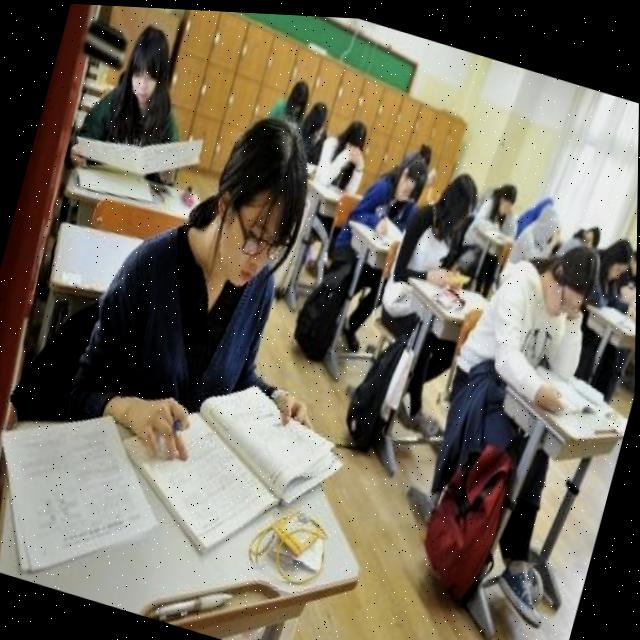studying-person: (37, 93, 353, 555), (423, 230, 632, 507)
